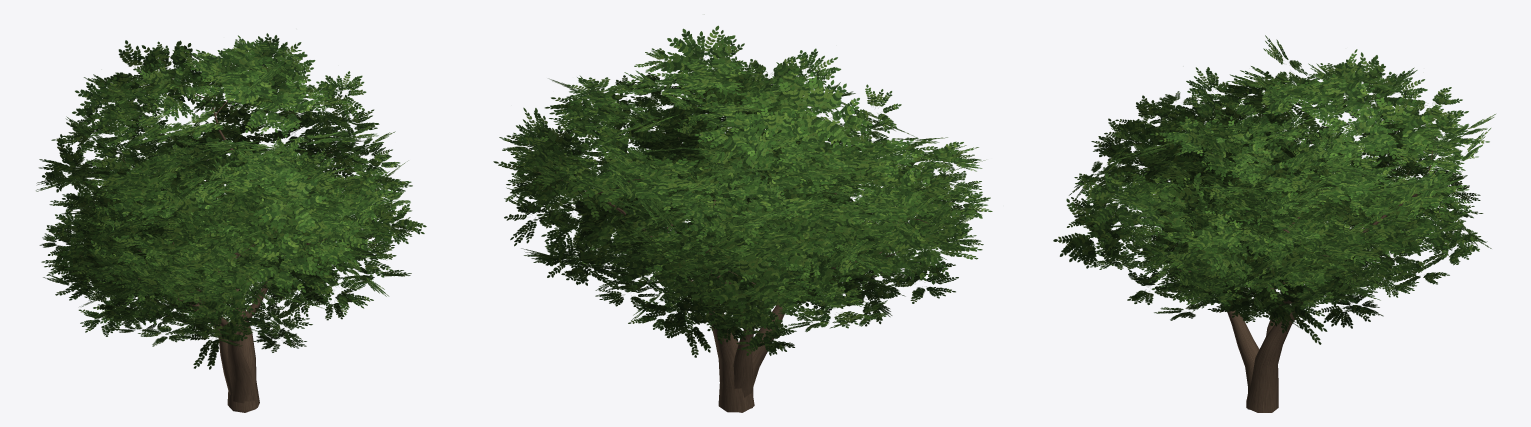
File: trees.glb
3 renders of one model, left to right at view 1: azimuth 30°, elevation 25°; view 2: azimuth 150°, elevation 25°; view 3: azimuth 270°, elevation 25°, orthographic. The views are drawn at different scales.
Parts seen in each view (by area): view 1: tree_2_leaves, tree_0_leaves, tree_1_leaves, tree_0, tree_2, tree_1; view 2: tree_2_leaves, tree_0_leaves, tree_1_leaves, tree_2, tree_1, tree_0; view 3: tree_2_leaves, tree_0_leaves, tree_1_leaves, tree_2, tree_0.
Boxes of the visible parts, x1,y1,x2,y2 form: tree_2_leaves: (36, 33, 408, 302); tree_0_leaves: (53, 139, 426, 369); tree_1_leaves: (39, 136, 361, 336); tree_0: (80, 234, 372, 412); tree_2: (93, 71, 332, 410); tree_1: (198, 255, 240, 395); tree_2_leaves: (493, 25, 915, 344); tree_0_leaves: (588, 58, 992, 316); tree_1_leaves: (569, 123, 944, 357); tree_2: (538, 137, 807, 412); tree_1: (666, 199, 778, 412); tree_0: (713, 163, 929, 408); tree_2_leaves: (1127, 35, 1495, 344); tree_0_leaves: (1053, 85, 1350, 320); tree_1_leaves: (1161, 122, 1435, 328); tree_2: (1237, 136, 1439, 412); tree_0: (1139, 163, 1259, 409).
Size of the model in its own units: 10.92 by 8.93 by 10.99.
2 materials, 2 textured.
